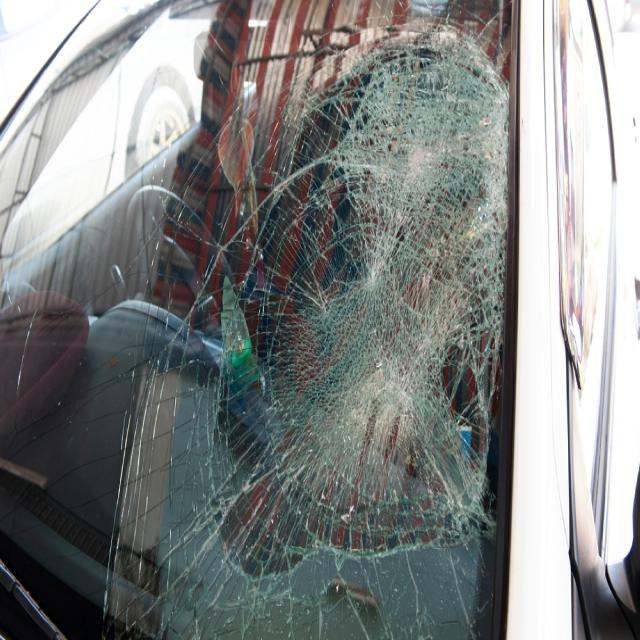glass shatter: (0, 0, 512, 640)
